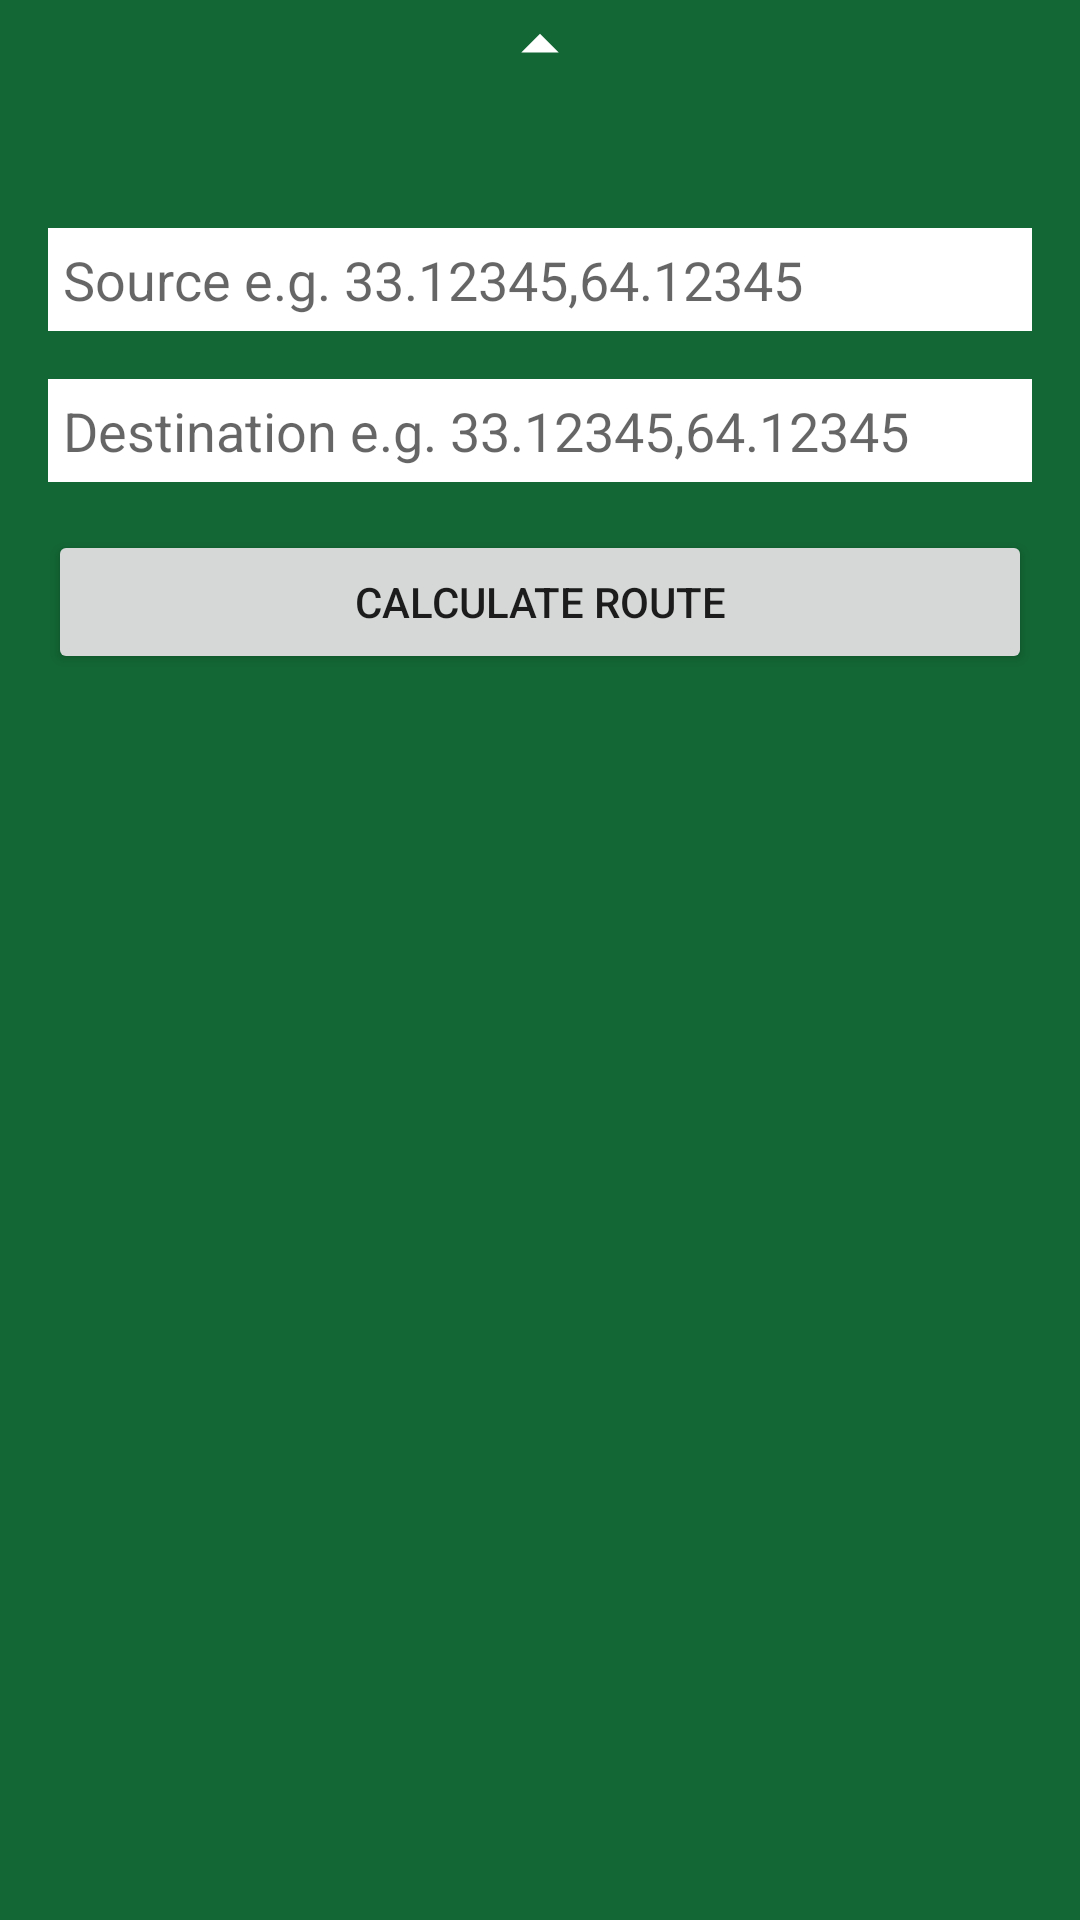

Icon bounding boxes for this 1080w x 1920h phone screenshot, format (x1, y1, x2, y2):
arrow drop up: (521, 34, 559, 53)
